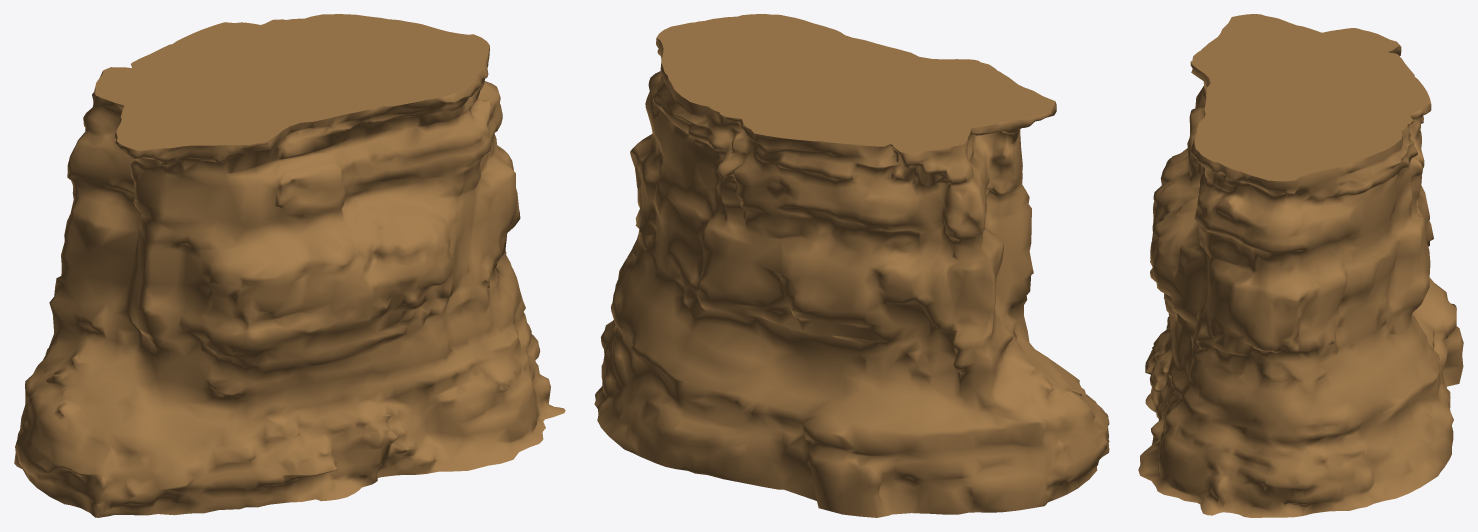
Rendered from MSH_Rocks_Cliff_09_a.FBX.
3 renders of one model, left to right at view 1: azimuth 30°, elevation 25°; view 2: azimuth 150°, elevation 25°; view 3: azimuth 270°, elevation 25°, orthographic. The views are drawn at different scales.
Visible parts, largest first — view 1: MESH_LOD0, CAP_LOD0; view 2: MESH_LOD0, CAP_LOD0; view 3: MESH_LOD0, CAP_LOD0.
Part boxes in pixels (x1,y1,x2,y2): MESH_LOD0: (14, 47, 565, 517); CAP_LOD0: (95, 14, 489, 150); MESH_LOD0: (594, 38, 1109, 517); CAP_LOD0: (656, 14, 1055, 153); MESH_LOD0: (1138, 42, 1463, 517); CAP_LOD0: (1191, 14, 1430, 181).
Size of what is drawn, in the model's own units: 979 by 660 by 616.
